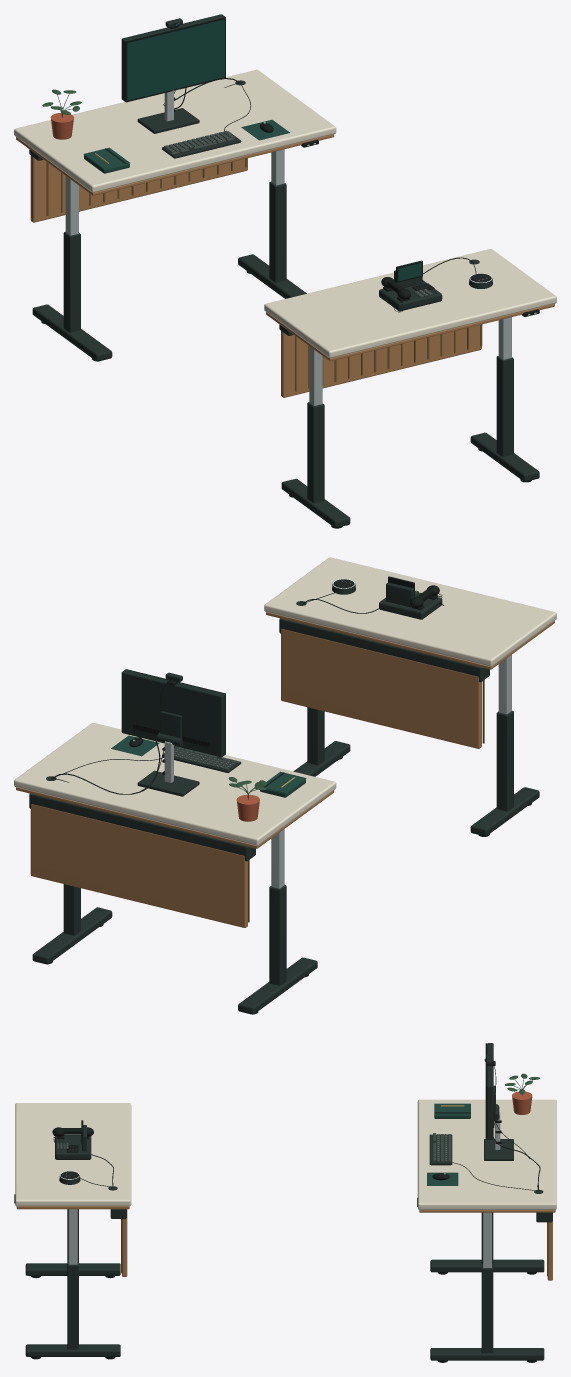
File: routing-kit.studio.glb
The picture shows the model from 3 angles, top to bottom: view 1: azimuth 30°, elevation 25°; view 2: azimuth 150°, elevation 25°; view 3: azimuth 270°, elevation 25°; orthographic projection. The views are drawn at different scales.
Visible parts, largest first — view 1: BriefingStandingDesk_warmmineraldesktop, VoiceStandingCounter_warmmineraldesktop, VoiceStandingCounter_honeyoak, BriefingStandingDesk_graphiteanodisedaluminium, VoiceStandingCounter_graphiteanodisedaluminium, TeamsMonitorScreen, BriefingStandingDesk_honeyoak, TeamsWorkstation_graphiteanodisedaluminium, VoiceStandingCounter_fastenersandconnectors, BriefingStandingDesk_fastenersandconnectors, VoiceStandingCounter_oakendgrain, VoipDeskPhone_graphiteanodisedaluminium (+4 smaller); view 2: BriefingStandingDesk_honeyoak, BriefingStandingDesk_warmmineraldesktop, VoiceStandingCounter_honeyoak, VoiceStandingCounter_warmmineraldesktop, BriefingStandingDesk_graphiteanodisedaluminium, TeamsWorkstation_graphiteanodisedaluminium, VoiceStandingCounter_graphiteanodisedaluminium, VoipDeskPhone_graphiteanodisedaluminium, TeamsWorkstation_softtouchpolymer, BriefingStandingDesk_fastenersandconnectors, VoiceStandingCounter_fastenersandconnectors, DeskPersonalObjects_spruceenamel (+1 smaller); view 3: BriefingStandingDesk_warmmineraldesktop, VoiceStandingCounter_warmmineraldesktop, BriefingStandingDesk_graphiteanodisedaluminium, VoiceStandingCounter_graphiteanodisedaluminium, TeamsWorkstation_graphiteanodisedaluminium, VoipDeskPhone_graphiteanodisedaluminium, VoiceStandingCounter_honeyoak, BriefingStandingDesk_honeyoak, DeskPersonalObjects_spruceenamel, VoiceStandingCounter_fastenersandconnectors, TeamsWorkstation_softtouchpolymer, DeskKeyboard_keyboardgraphitekeycaps (+3 smaller).
Part boxes in pixels (x1,y1,x2,y2): BriefingStandingDesk_warmmineraldesktop: (14,69,336,192); VoiceStandingCounter_warmmineraldesktop: (264,249,556,358); VoiceStandingCounter_honeyoak: (266,303,554,397); BriefingStandingDesk_graphiteanodisedaluminium: (29,80,306,361); VoiceStandingCounter_graphiteanodisedaluminium: (279,259,539,527); TeamsMonitorScreen: (127,19,224,100); BriefingStandingDesk_honeyoak: (16,134,334,222); TeamsWorkstation_graphiteanodisedaluminium: (121,14,224,133); VoiceStandingCounter_fastenersandconnectors: (309,317,511,405); BriefingStandingDesk_fastenersandconnectors: (65,149,284,235); VoiceStandingCounter_oakendgrain: (281,324,482,394); VoipDeskPhone_graphiteanodisedaluminium: (379,270,442,311); BriefingStandingDesk_honeyoak: (16,787,334,927); BriefingStandingDesk_warmmineraldesktop: (14,723,336,845); VoiceStandingCounter_honeyoak: (266,612,554,748); VoiceStandingCounter_warmmineraldesktop: (264,557,556,666); BriefingStandingDesk_graphiteanodisedaluminium: (29,776,317,1014); TeamsWorkstation_graphiteanodisedaluminium: (121,669,225,796); VoiceStandingCounter_graphiteanodisedaluminium: (279,601,539,836); VoipDeskPhone_graphiteanodisedaluminium: (379,582,442,619); TeamsWorkstation_softtouchpolymer: (51,669,225,794); BriefingStandingDesk_fastenersandconnectors: (271,829,284,888); VoiceStandingCounter_fastenersandconnectors: (498,655,511,714); DeskPersonalObjects_spruceenamel: (260,771,306,797); BriefingStandingDesk_warmmineraldesktop: (417,1099,556,1209); VoiceStandingCounter_warmmineraldesktop: (15,1103,131,1206); BriefingStandingDesk_graphiteanodisedaluminium: (430,1189,552,1360); VoiceStandingCounter_graphiteanodisedaluminium: (25,1186,126,1356); TeamsWorkstation_graphiteanodisedaluminium: (484,1043,513,1160); VoipDeskPhone_graphiteanodisedaluminium: (55,1125,91,1159); VoiceStandingCounter_honeyoak: (16,1206,129,1276); BriefingStandingDesk_honeyoak: (419,1210,555,1280); DeskPersonalObjects_spruceenamel: (434,1103,470,1118); VoiceStandingCounter_fastenersandconnectors: (68,1209,77,1264); TeamsWorkstation_softtouchpolymer: (485,1043,540,1191); DeskKeyboard_keyboardgraphitekeycaps: (433,1133,451,1161).
Size of the model in its own units: 1.5 by 1.72 by 3.28.
